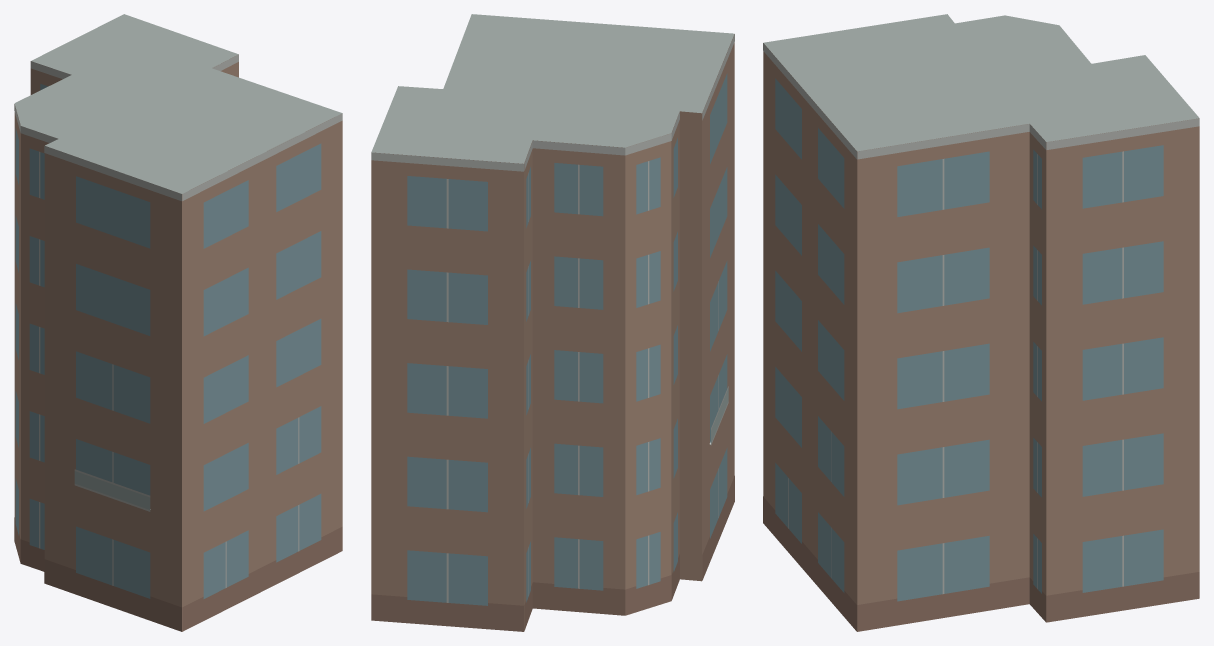
Rendered from survey-upis-32927118.glb.
3 views of the same model, side by side, from view 1: azimuth 30°, elevation 25°; view 2: azimuth 150°, elevation 25°; view 3: azimuth 270°, elevation 25° (orthographic). The views are drawn at different scales.
Visible parts, largest first — view 1: survey-upis-32927118.tmp; view 2: survey-upis-32927118.tmp; view 3: survey-upis-32927118.tmp.
Part boxes in pixels (x1=…): survey-upis-32927118.tmp: x1=14, y1=14, x2=342, y2=631; survey-upis-32927118.tmp: x1=371, y1=14, x2=734, y2=631; survey-upis-32927118.tmp: x1=763, y1=14, x2=1199, y2=631.
Size of the model in its own units: 8.91 by 14.5 by 11.95.
